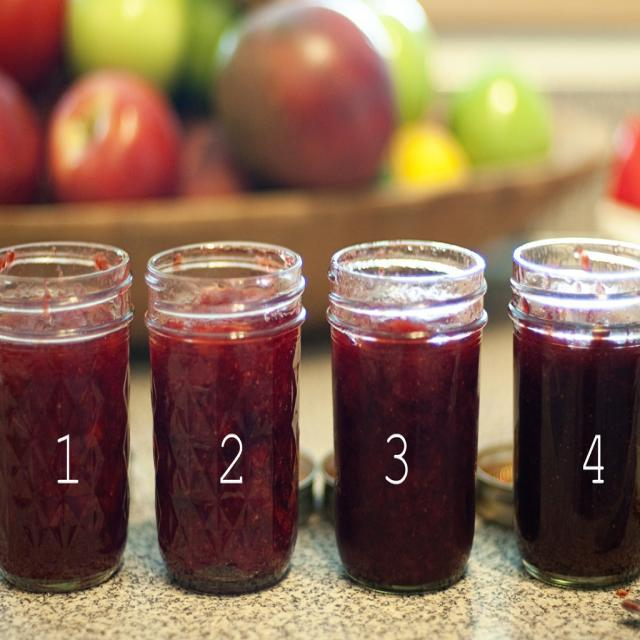Tomato: (28, 71, 198, 209)
